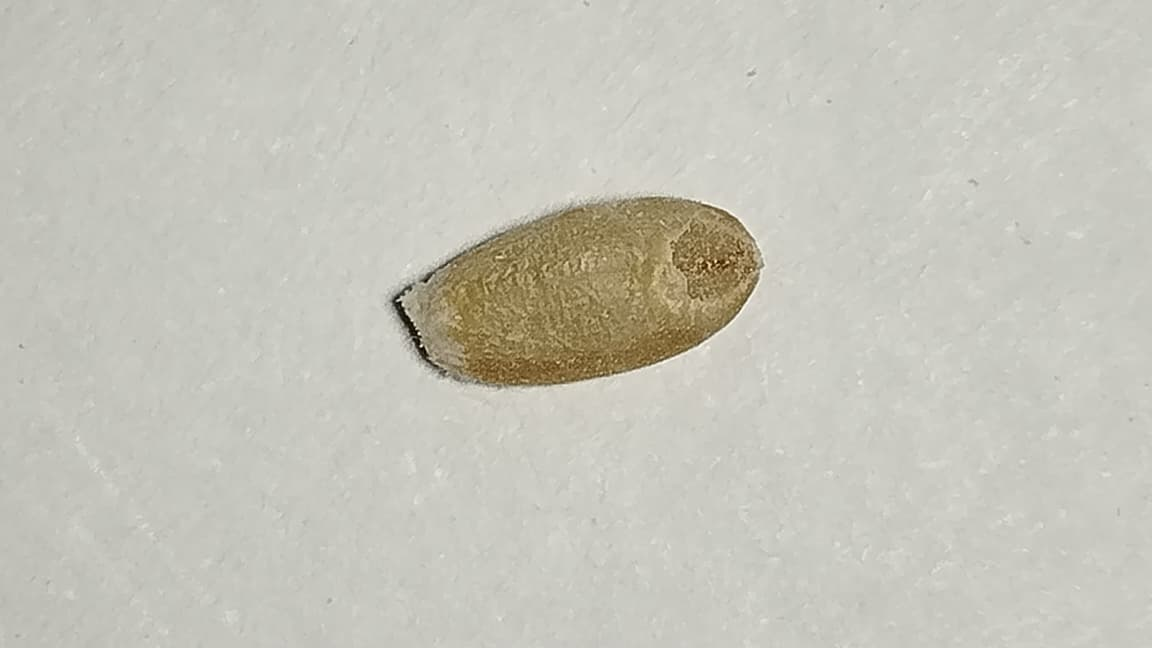damage: (400, 195, 762, 383)
insectdamage: (667, 199, 758, 321)
